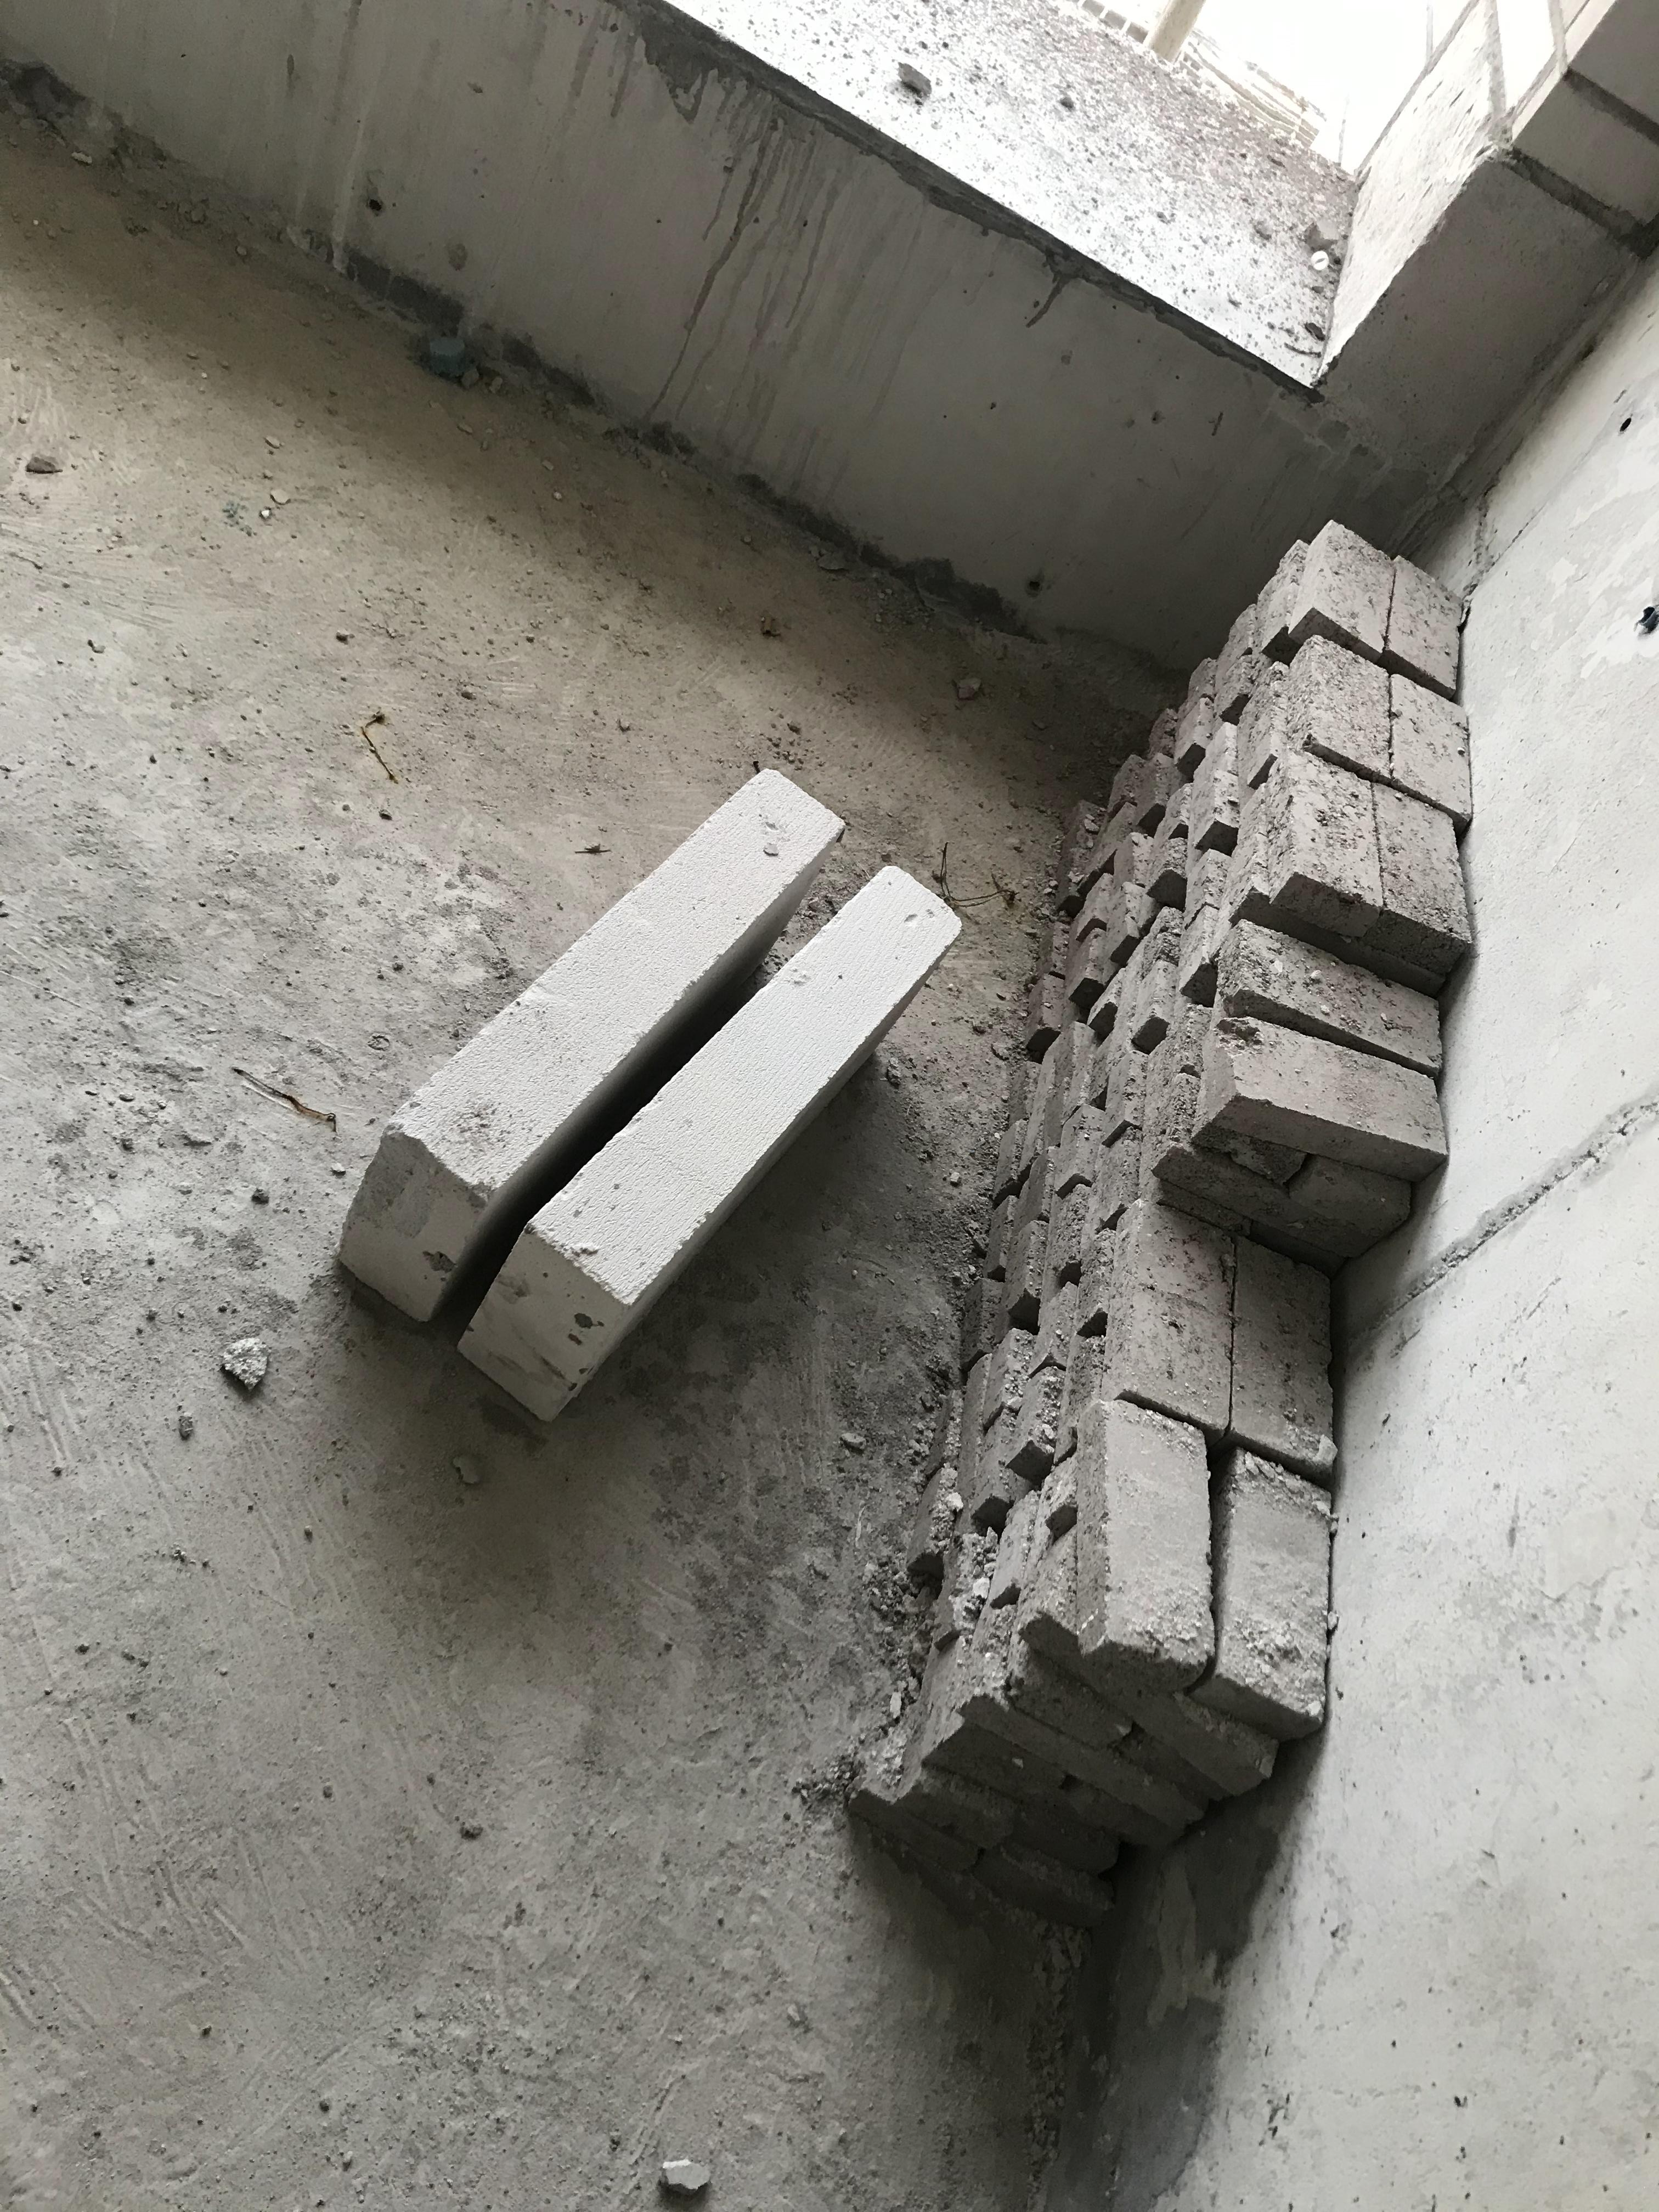brick: (523, 186, 1659, 789), (774, 697, 1429, 1320)
